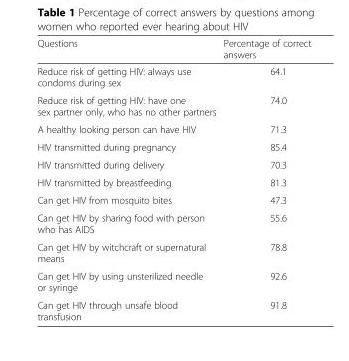table: (36, 37, 310, 321)
table column: (36, 37, 219, 321), (219, 37, 310, 321)
table column header: (36, 37, 310, 62)
table row: (36, 62, 310, 91), (36, 91, 310, 120), (36, 208, 310, 237), (36, 237, 310, 266), (36, 266, 310, 295), (36, 295, 310, 321), (36, 37, 310, 62), (36, 137, 310, 155), (36, 155, 310, 173), (36, 190, 310, 208), (36, 120, 310, 137), (36, 173, 310, 190)
